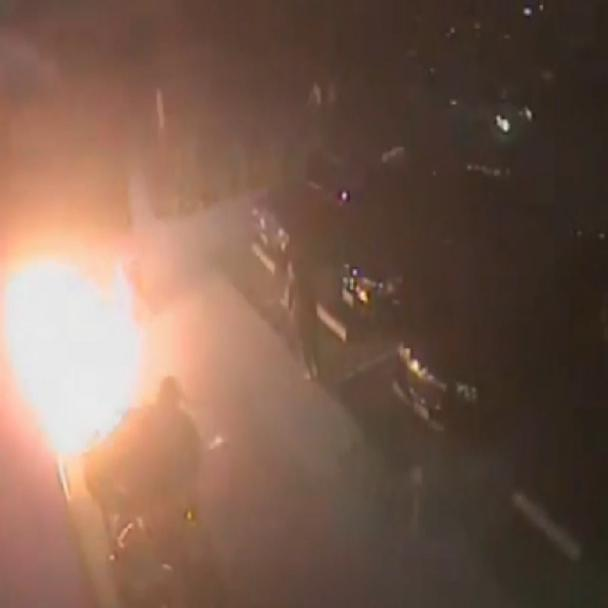Fire: (0, 120, 191, 545)
